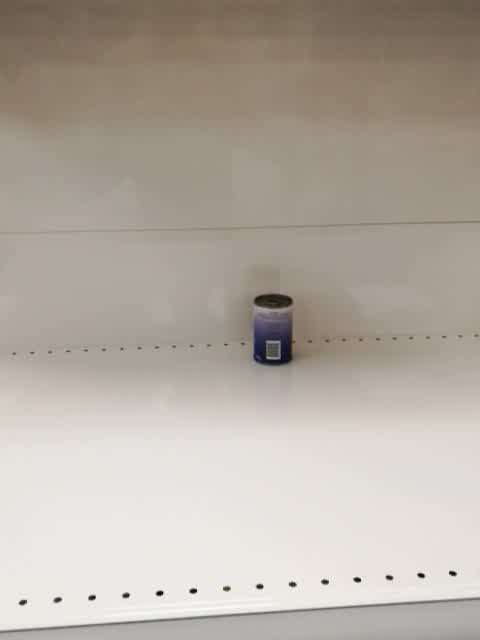sardine: (250, 292, 294, 367)
